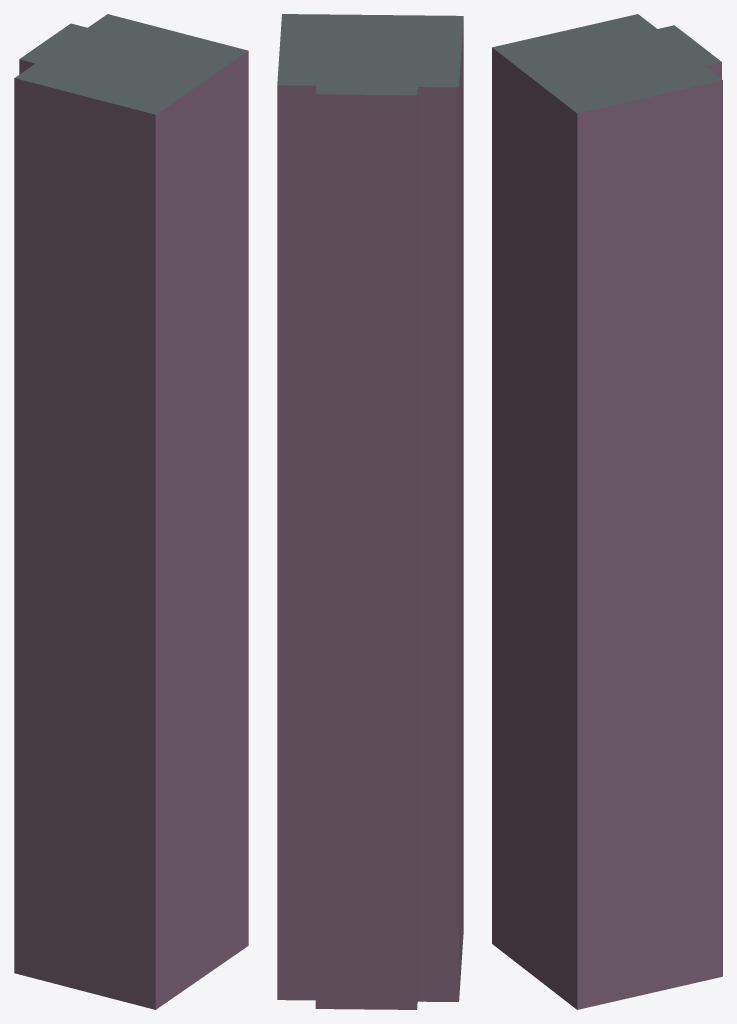
Rendered from nyc-1035312-0.glb.
3 views of the same model, side by side, from view 1: azimuth 30°, elevation 25°; view 2: azimuth 150°, elevation 25°; view 3: azimuth 270°, elevation 25° (orthographic). The views are drawn at different scales.
Parts seen in each view (by area): view 1: nyc-1035312-0; view 2: nyc-1035312-0; view 3: nyc-1035312-0.
Part boxes in pixels (left/top/right/bottom): nyc-1035312-0: left=14, top=14, right=248, bottom=1009; nyc-1035312-0: left=277, top=14, right=463, bottom=1009; nyc-1035312-0: left=492, top=14, right=722, bottom=1009.
Bounding box in the file's own units: 20.69 × 86.89 × 20.29.
